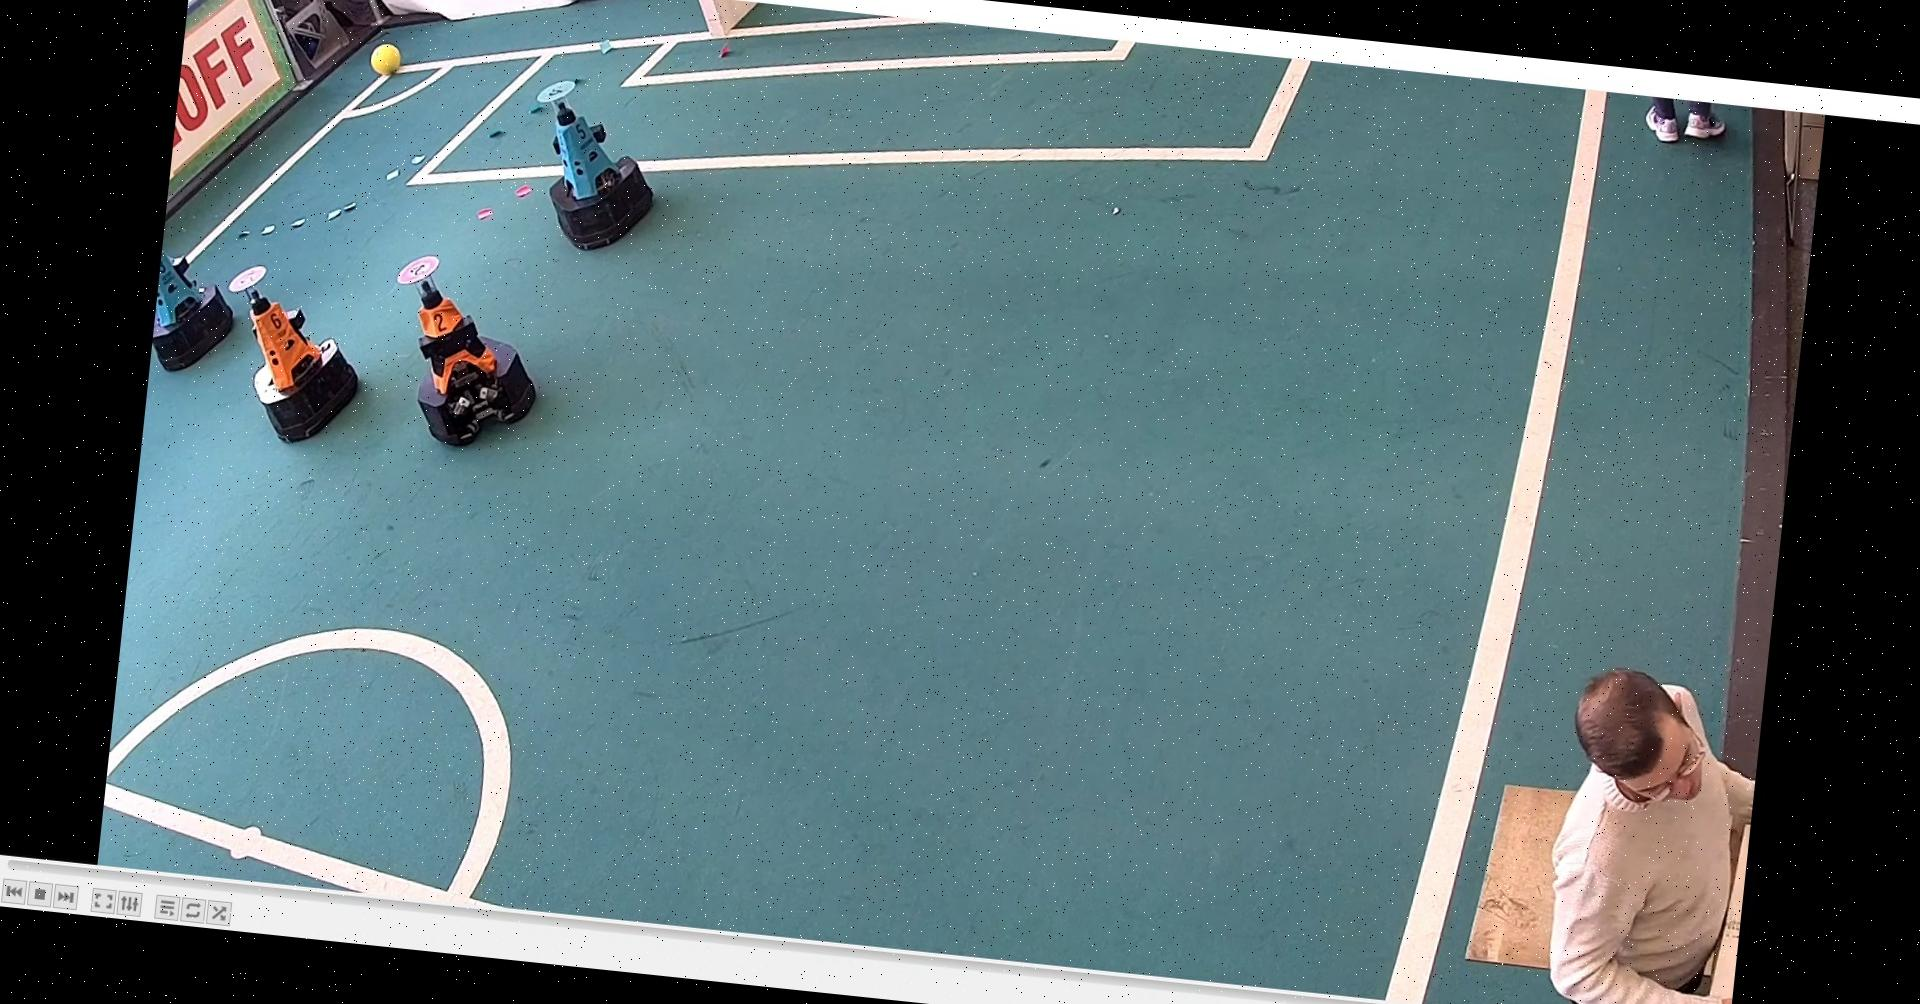Ball: (370, 41, 408, 77)
Team_Blue: (516, 69, 676, 256), (150, 234, 260, 380)
Team_Red: (376, 241, 555, 453), (215, 259, 366, 446)
